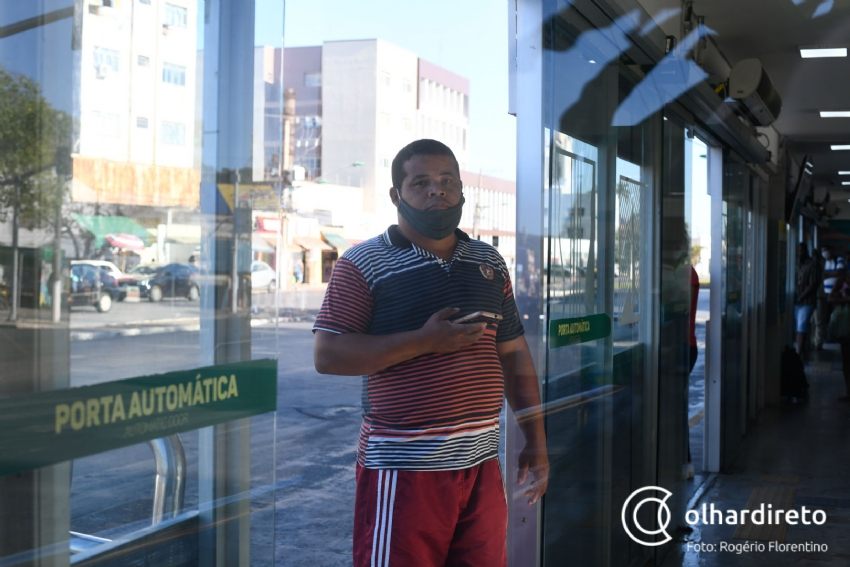mask_weared_incorrect: (388, 154, 467, 242)
